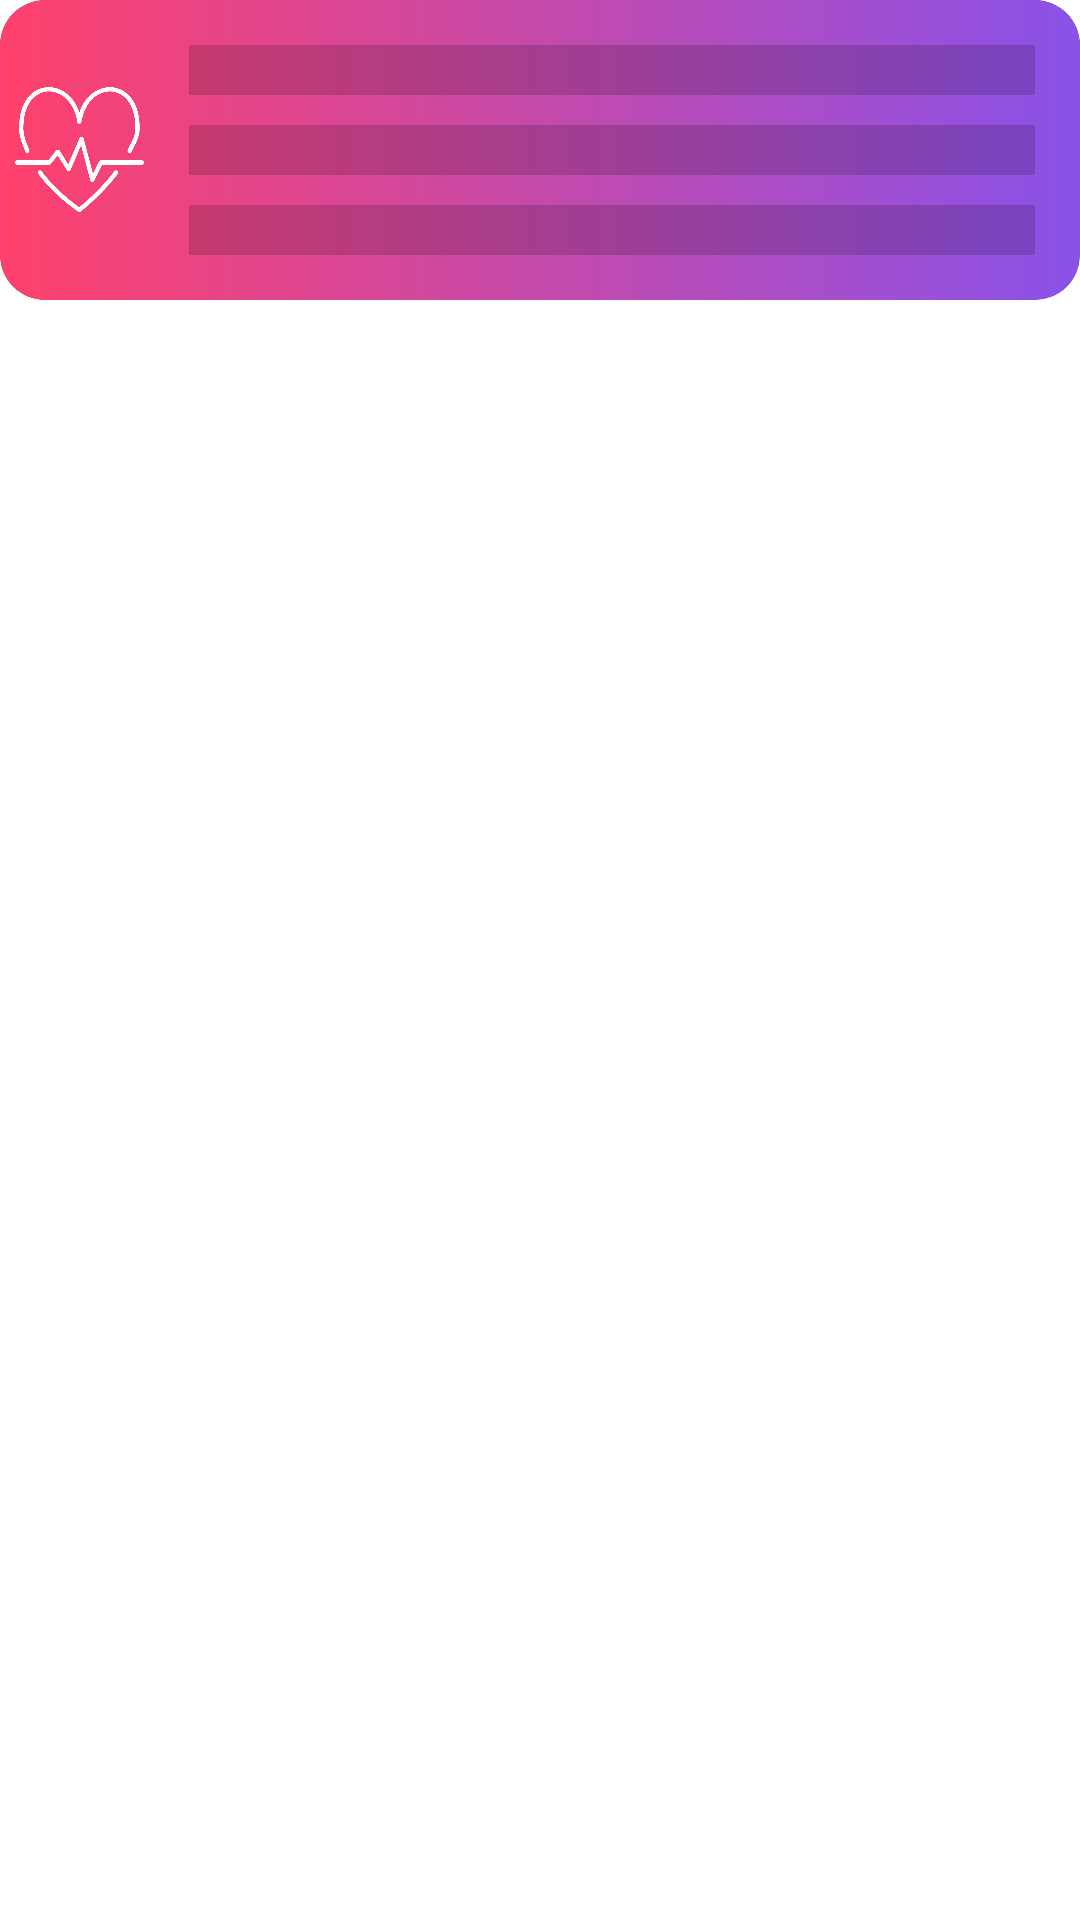

Icon bounding boxes for this 1080 x 1920 phone screenshot, format bbox(x1, y1, x2, y2):
health: bbox(15, 87, 144, 212)
